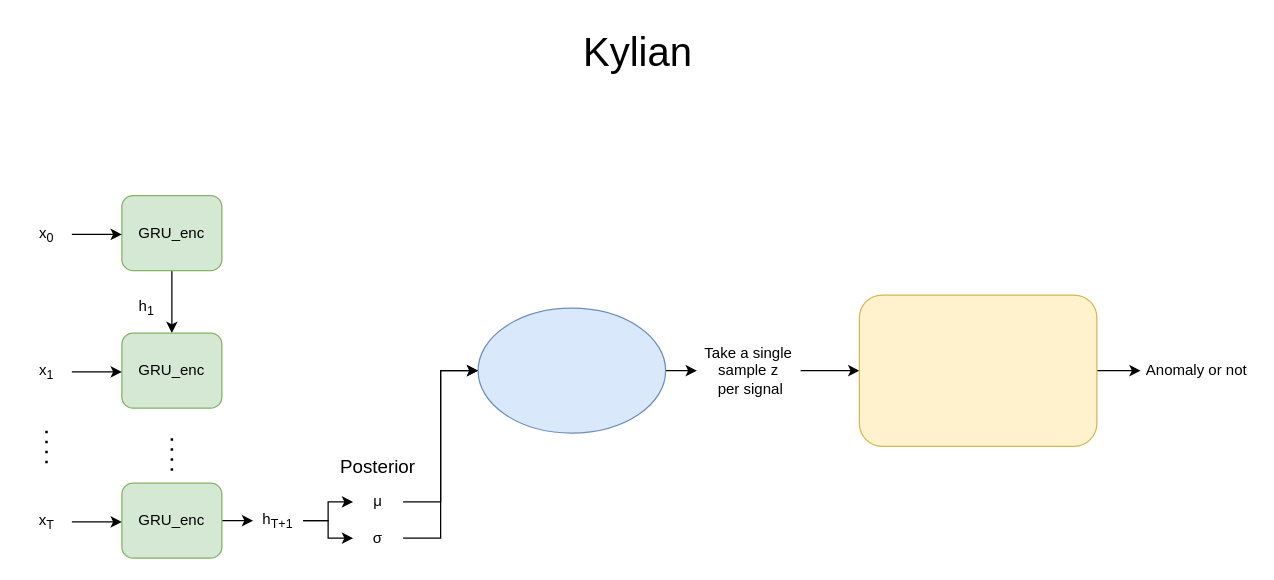
Image size: 1274x580. Some labels were removed from this diagram. Each missing label, with the centre of its shape:
k-NN Classification Algorithm: the point at 977,370
Latent Space: the point at 571,370
